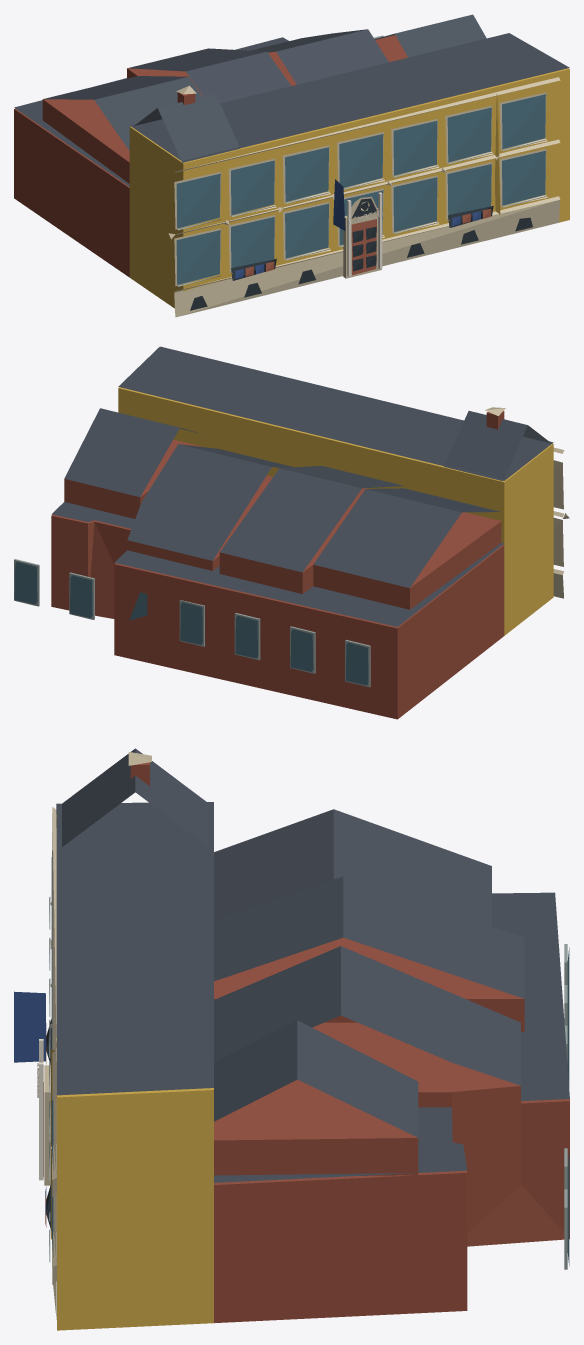
Rendered from tobacco-theater.lod1.glb.
3 views of the same model, one above another, from view 1: azimuth 30°, elevation 25°; view 2: azimuth 150°, elevation 25°; view 3: azimuth 270°, elevation 25° (orthographic). The views are drawn at different scales.
Parts seen in each view (by area): view 1: tobacco-theater; view 2: tobacco-theater; view 3: tobacco-theater.
Boxes of the visible parts, x1,y1,x2,y2 form: tobacco-theater: [14, 14, 569, 317]; tobacco-theater: [14, 346, 569, 719]; tobacco-theater: [14, 748, 569, 1330].
Size of the model in its own units: 29.57 by 13.91 by 22.99.
